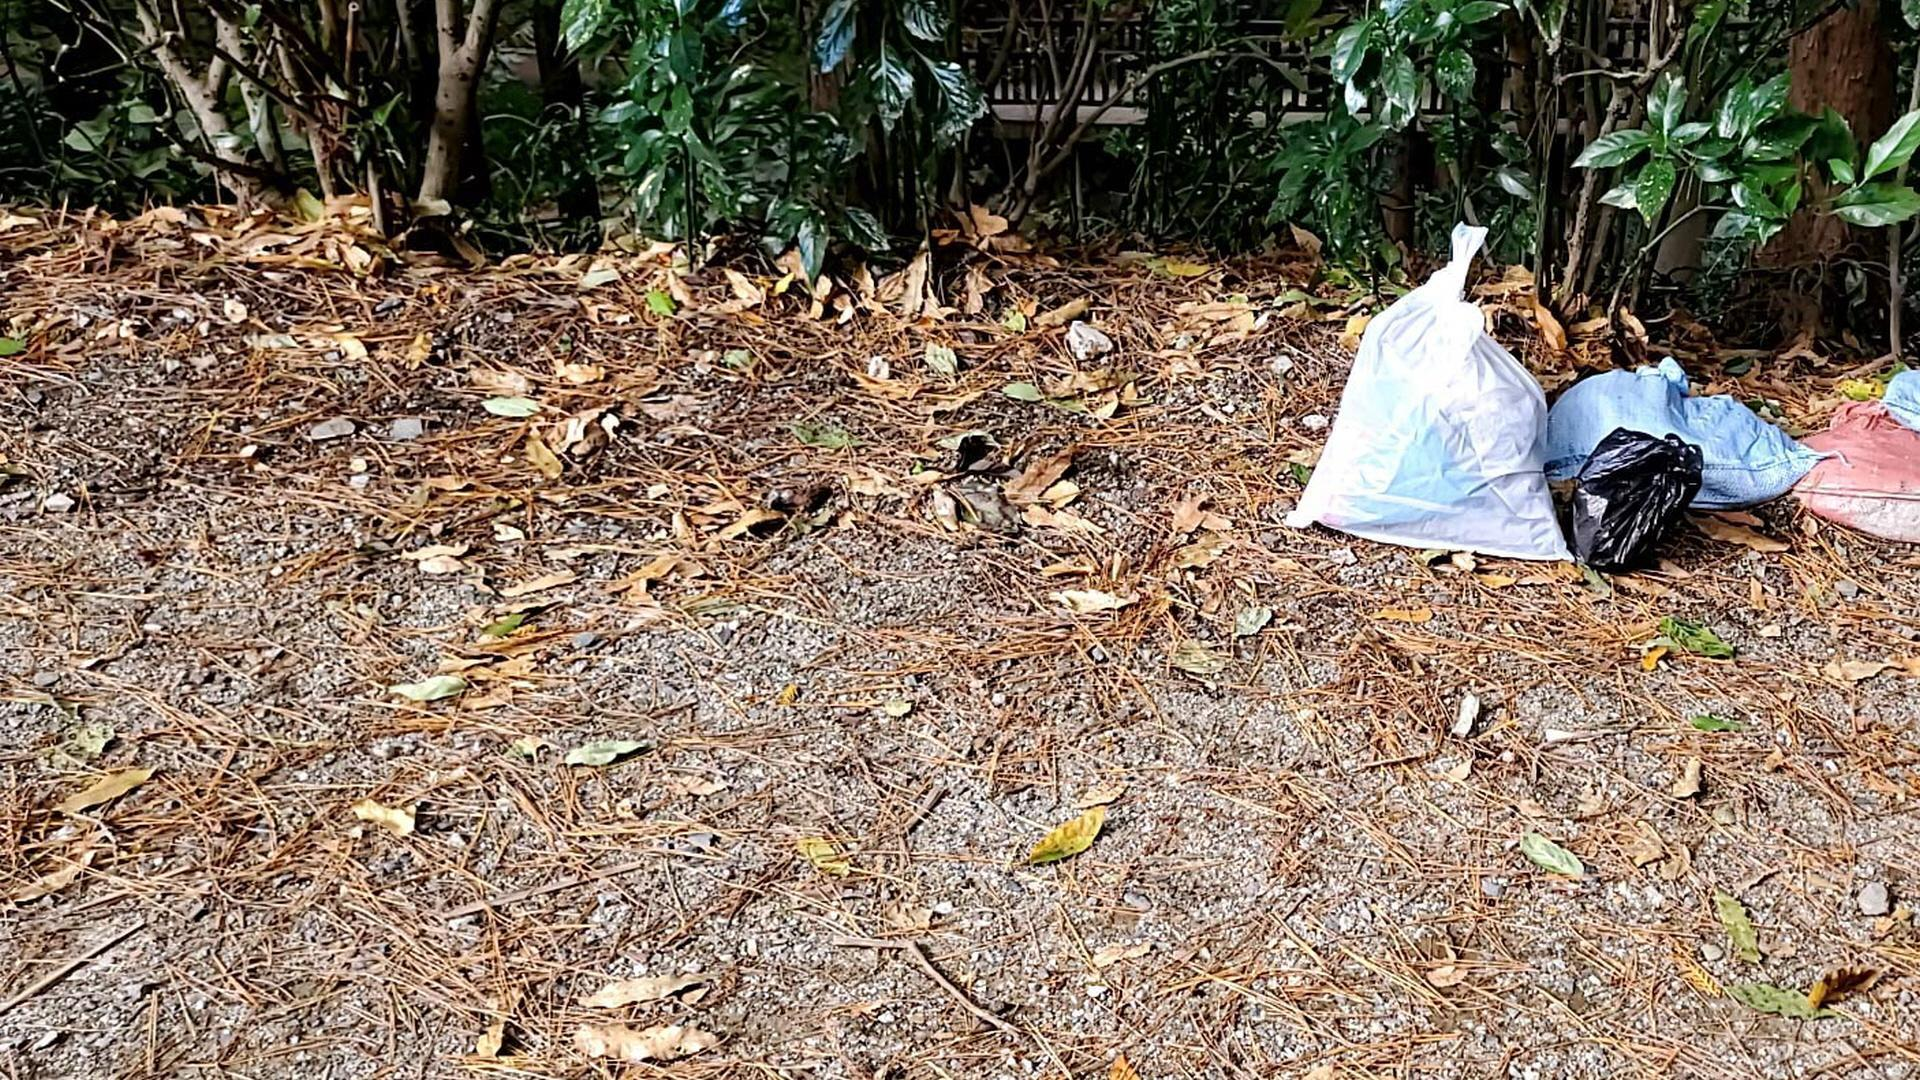black_bag: (1560, 418, 1701, 579)
white_bag: (1263, 208, 1581, 579)
